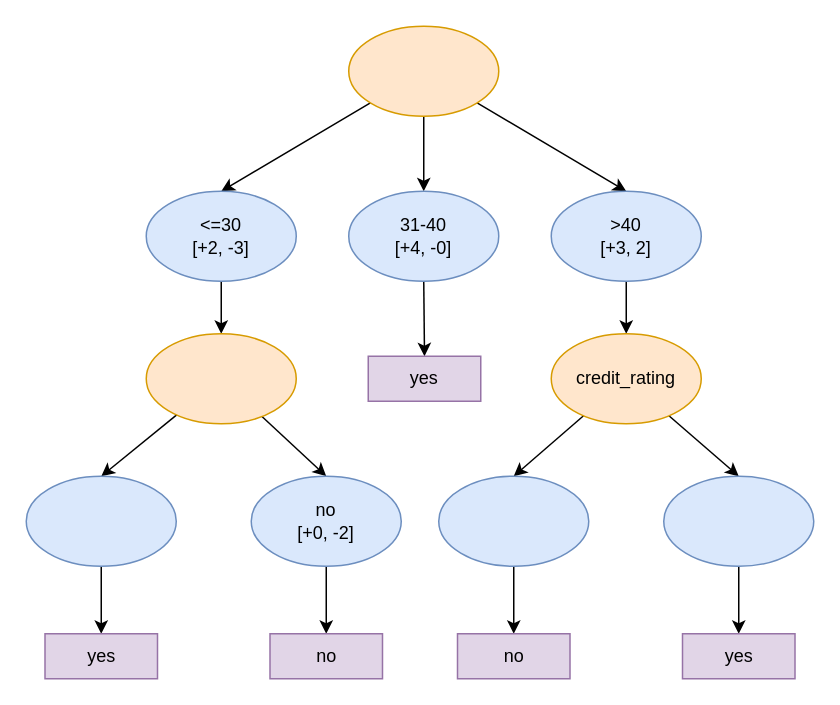
This 840x705 diagram has some shape labels left out. The box of each missing label's shape, as (x1, y1, x2, y2) in pixels:
age: (347, 25, 499, 116)
excellent [+0, -2]: (437, 475, 589, 566)
fair [+3, -0]: (662, 475, 814, 566)
student: (145, 332, 296, 424)
yes [+3, -0]: (25, 475, 176, 566)
